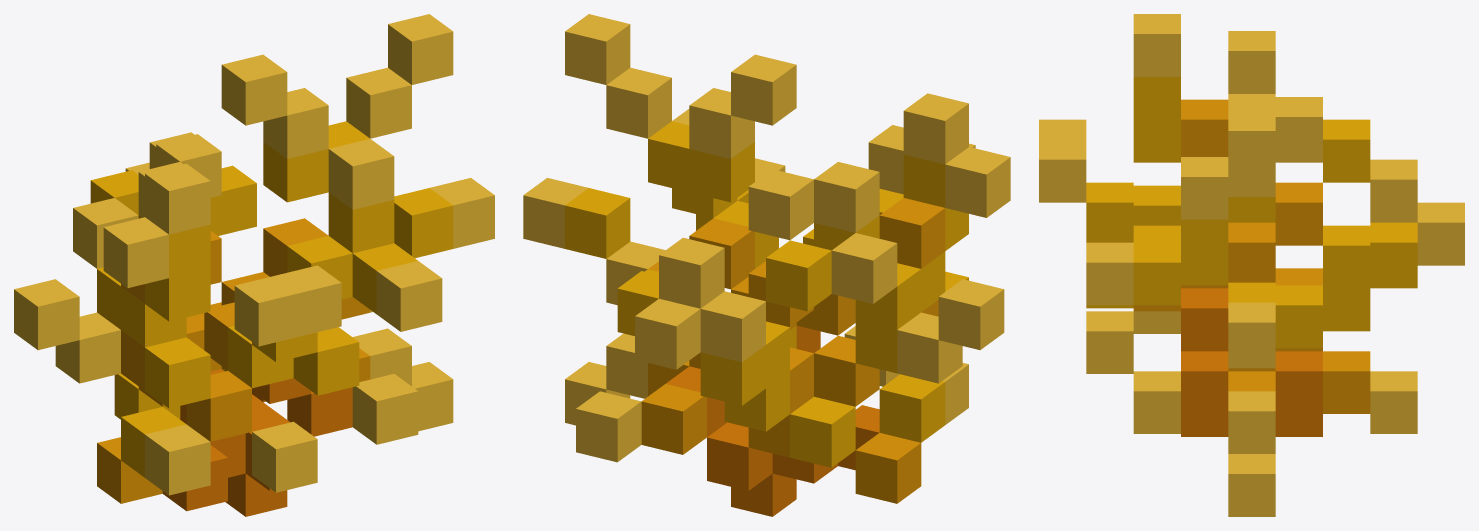
The model's file is YellowCoralLarge-0.obj.
3 views of the same model, side by side, from view 1: azimuth 30°, elevation 25°; view 2: azimuth 150°, elevation 25°; view 3: azimuth 270°, elevation 25° (orthographic).
Size of the model in its own units: 1.1 by 1 by 0.9.
1 material, 1 textured.
